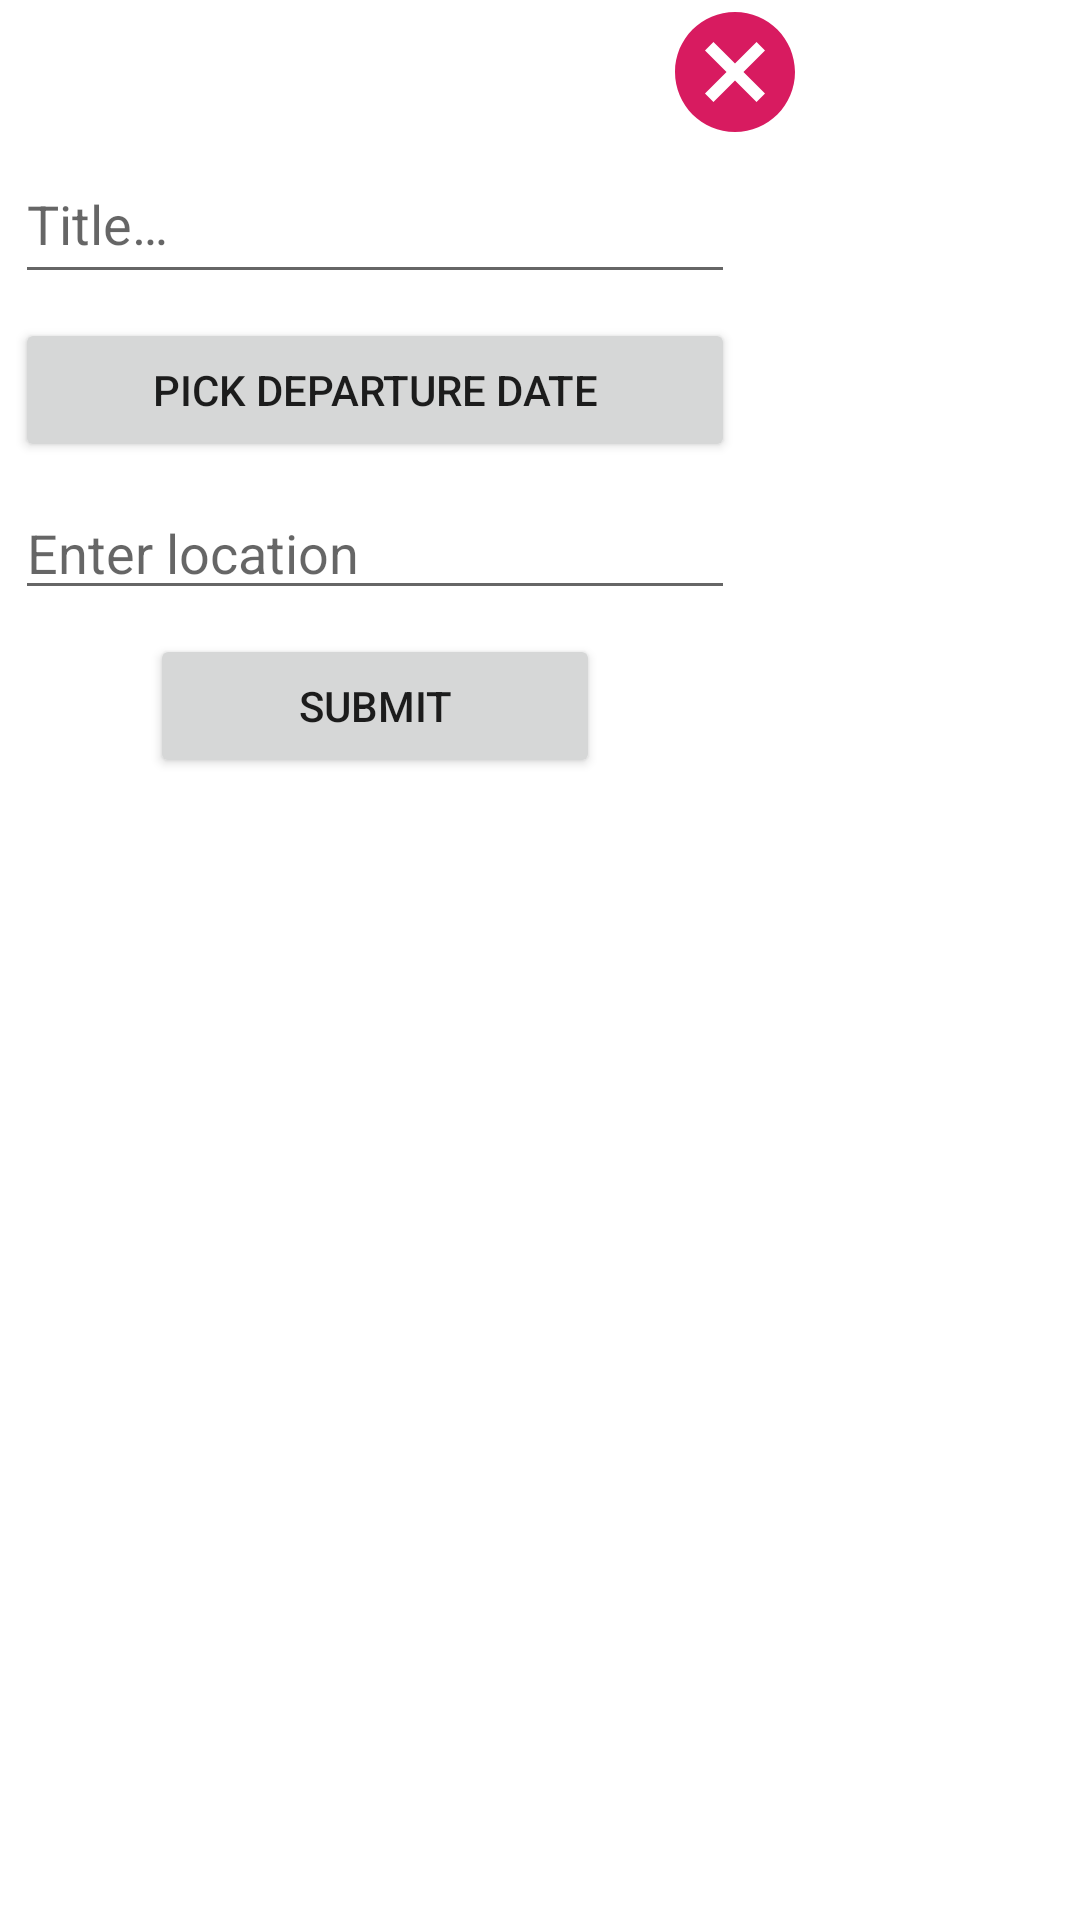

Where to tap for icons on this 1080*1920 app screen, as [x,y]:
Cancel Image Add: [735,72]
